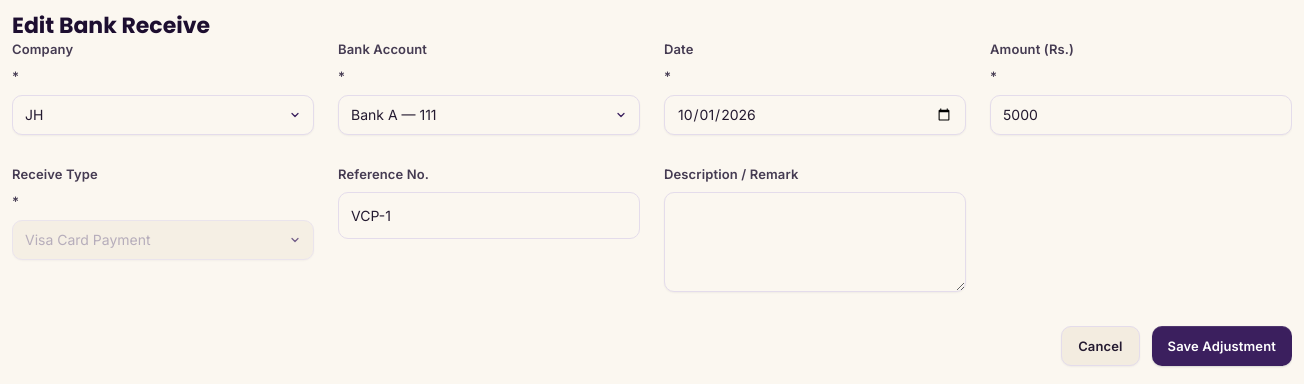
Scenario: FinancialReceiptAdjustmentEditor - Company / Bank Account / Receive Type › Pending card receipt: Company and Bank Account are editable selects; Receive Type stays locked
Expected: the dropdown labelled "Bank Account *" is enabled, top-left (338, 94), bottom-right (640, 134)
Expected: the dropdown labelled "Bank Account *" shows "Bank A — 111", top-left (338, 94), bottom-right (640, 134)
Switching Company reloads the Bank Account list and clears the selection.
Select "RD" in the dropdown labelled "Company *" at (163, 114), box top-left (12, 94), bottom-right (314, 134)
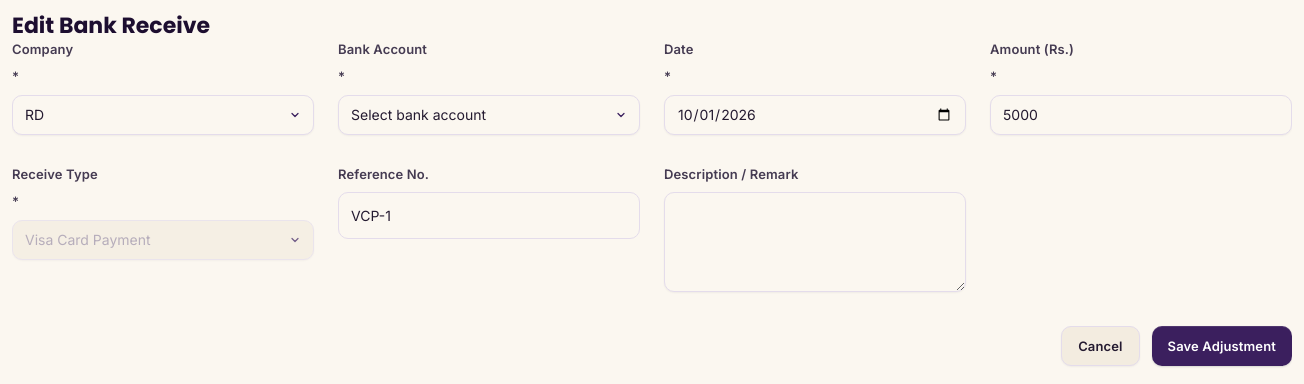
Result: the dropdown labelled "Bank Account *" shows "Select bank account" at top-left (338, 94), bottom-right (640, 134)
